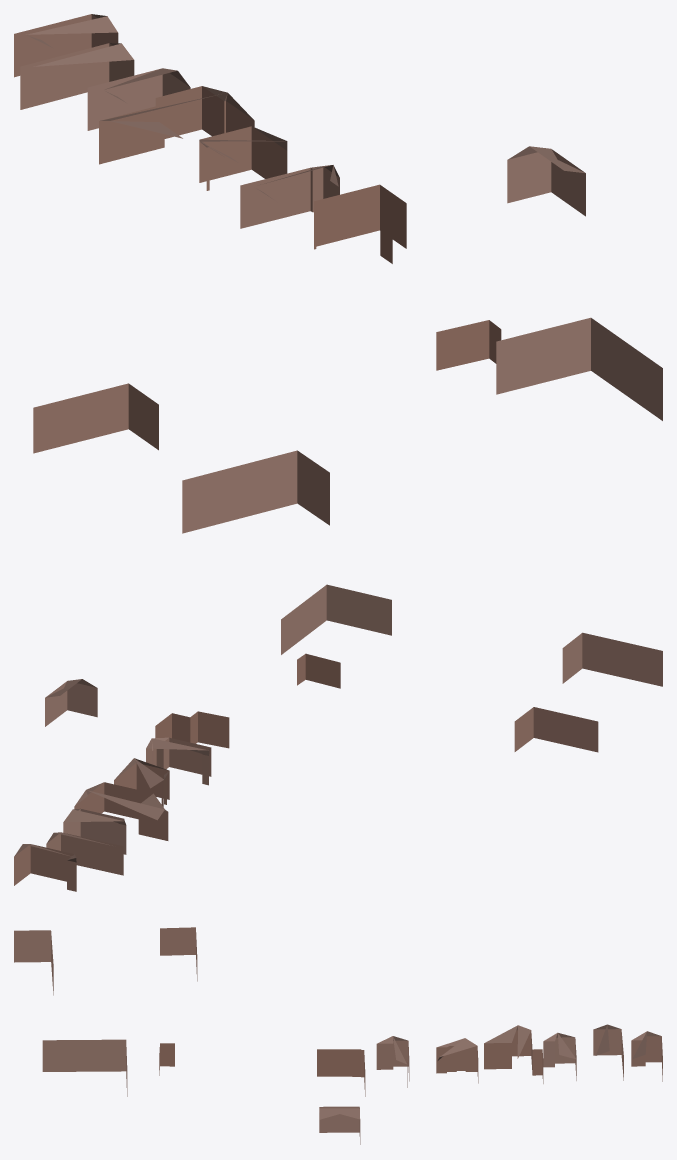
The model's file is c_1635_17836_buildings_residential.glb.
The picture shows the model from 3 angles, top to bottom: view 1: azimuth 30°, elevation 25°; view 2: azimuth 150°, elevation 25°; view 3: azimuth 270°, elevation 25°; orthographic projection. The views are drawn at different scales.
Visible parts, largest first — view 1: geometry_0; view 2: geometry_0; view 3: geometry_0.
Part boxes in pixels (x1=…): geometry_0: x1=14, y1=14, x2=662, y2=533; geometry_0: x1=14, y1=584, x2=662, y2=891; geometry_0: x1=14, y1=927, x2=662, y2=1144.
Size of the model in its own units: 142 by 11.72 by 203.
